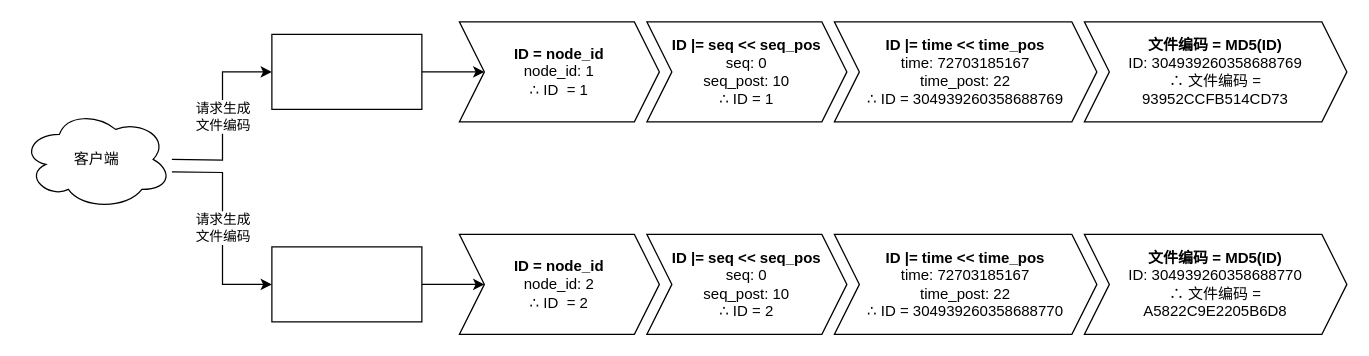
This 1369x356 diagram has some shape labels left out. Each missing label, with the centre of its shape:
文件网关 节点A: (x=346, y=71)
文件网关 节点B: (x=346, y=284)
